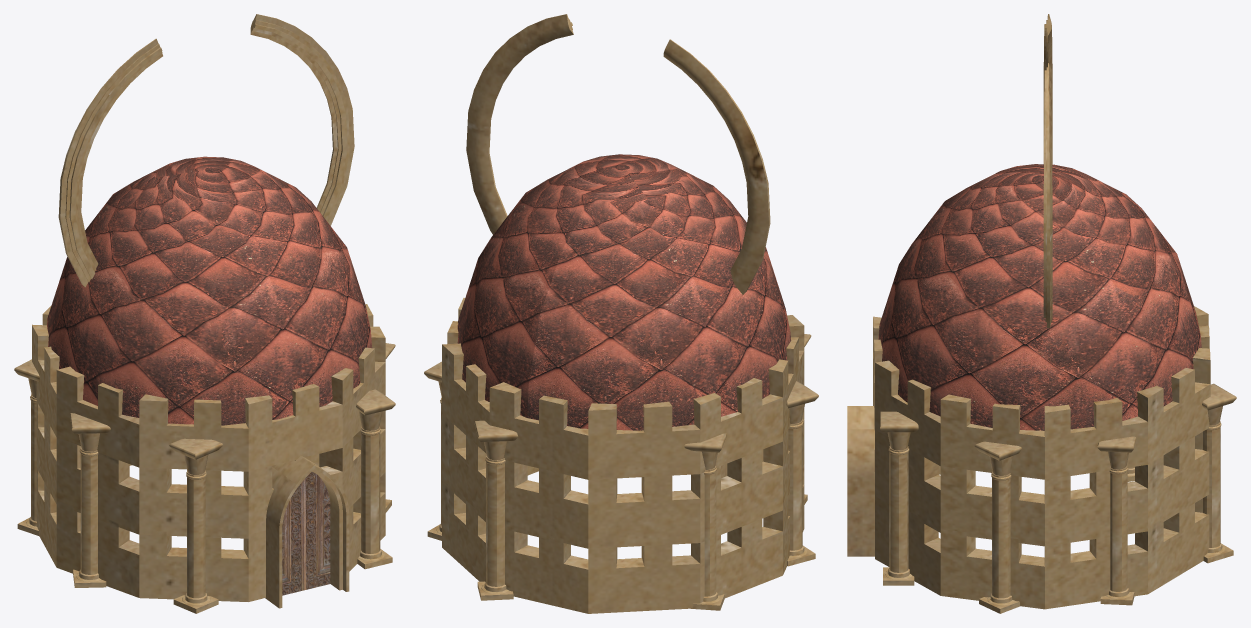
Rendered from chiesa (1).FBX.
The picture shows the model from 3 angles, left to right: view 1: azimuth 30°, elevation 25°; view 2: azimuth 150°, elevation 25°; view 3: azimuth 270°, elevation 25°; orthographic projection. The views are drawn at different scales.
Parts seen in each view (by area): view 1: Object009; view 2: Object009; view 3: Object009.
Boxes of the visible parts, x1,y1,x2,y2 form: Object009: (14,14,395,613); Object009: (424,14,818,613); Object009: (847,14,1236,613).
Size of the model in its own units: 96.94 by 141 by 100.
